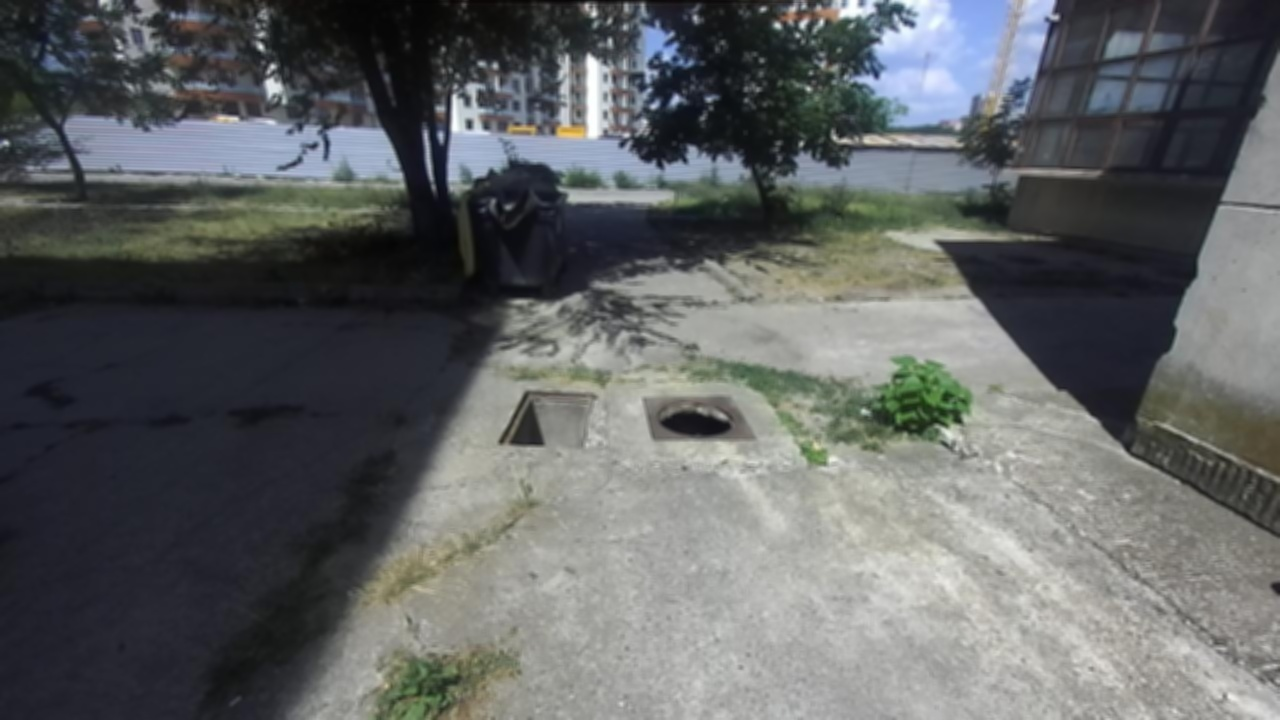drain: (494, 386, 602, 447), (653, 396, 741, 435)
